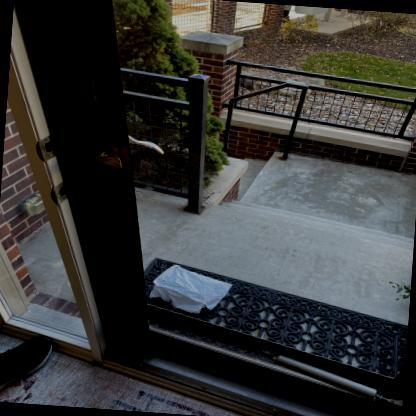plastic_bag: (148, 263, 232, 314)
